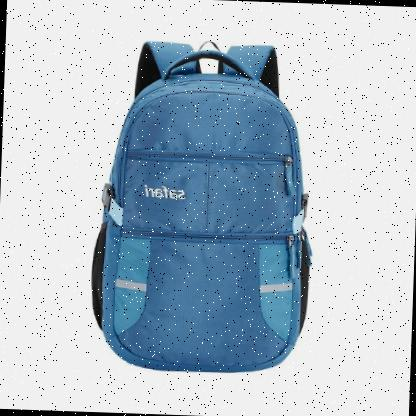bag: (82, 33, 327, 380)
